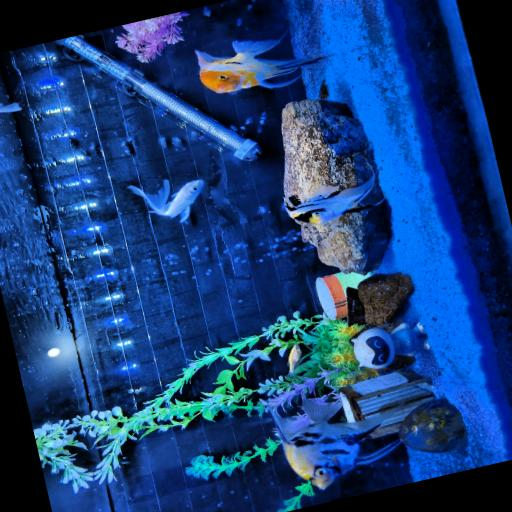Fish: (271, 396, 402, 488), (196, 37, 322, 92), (284, 170, 384, 223), (128, 179, 203, 221), (288, 344, 302, 373), (0, 102, 21, 111)
